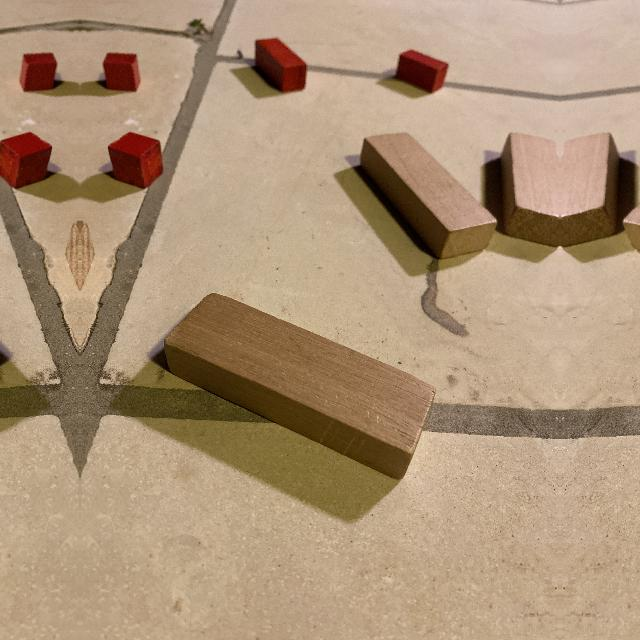jenga: (163, 292, 436, 481), (360, 132, 497, 258), (500, 133, 560, 248), (560, 133, 620, 248)
red block: (255, 38, 307, 91), (395, 50, 447, 94)
red cube: (107, 132, 163, 189), (0, 132, 53, 189), (102, 53, 142, 91), (18, 53, 58, 91)
